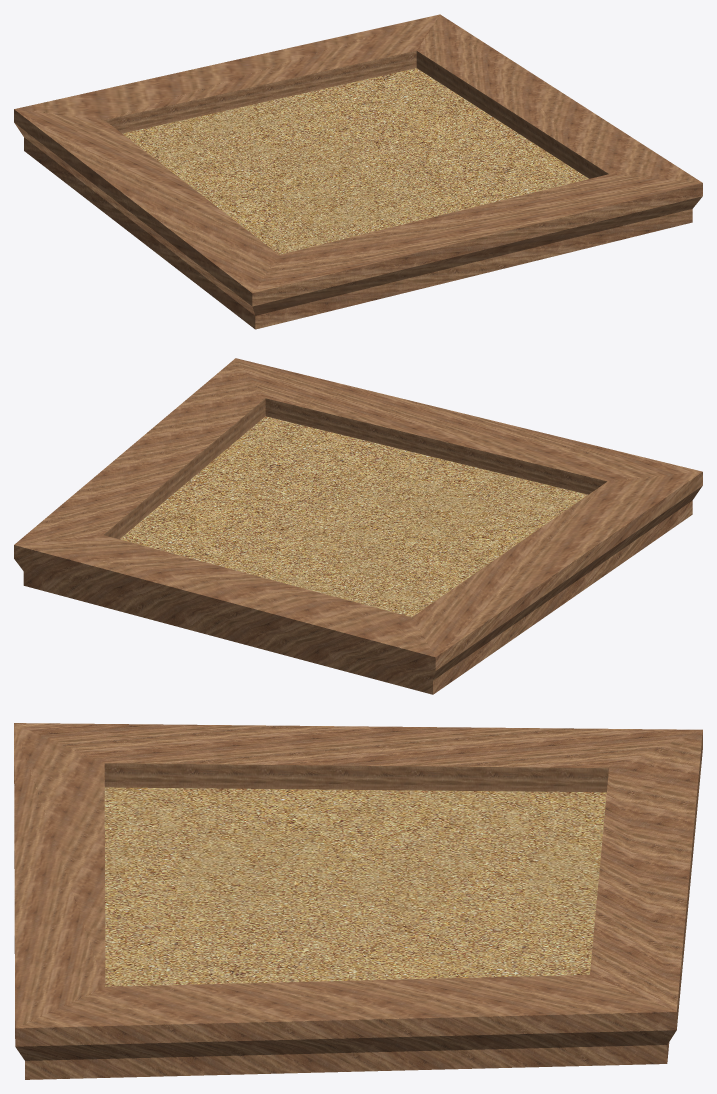
File: park_sandpit.dae
3 renders of one model, top to bottom at view 1: azimuth 30°, elevation 25°; view 2: azimuth 150°, elevation 25°; view 3: azimuth 270°, elevation 25°, orthographic. The views are drawn at different scales.
Visible parts, largest first — view 1: Plane.001; view 2: Plane.001; view 3: Plane.001.
Part boxes in pixels (x1,y1,x2,y2): Plane.001: [14, 14, 702, 329]; Plane.001: [14, 358, 702, 694]; Plane.001: [14, 723, 702, 1079].
Bounding box in the file's own units: 4.02 × 3.84 × 0.3447.
Materials: 2 (2 with a texture image).
